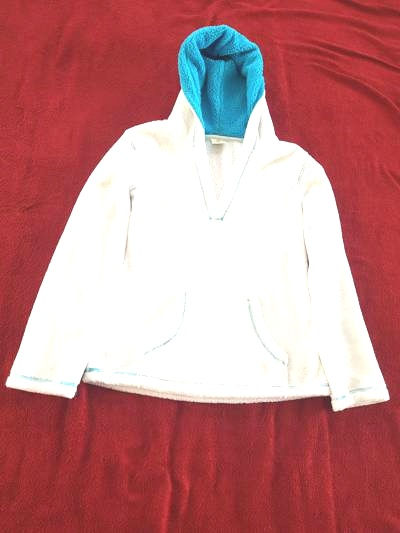Hoodie: (2, 26, 390, 432)
